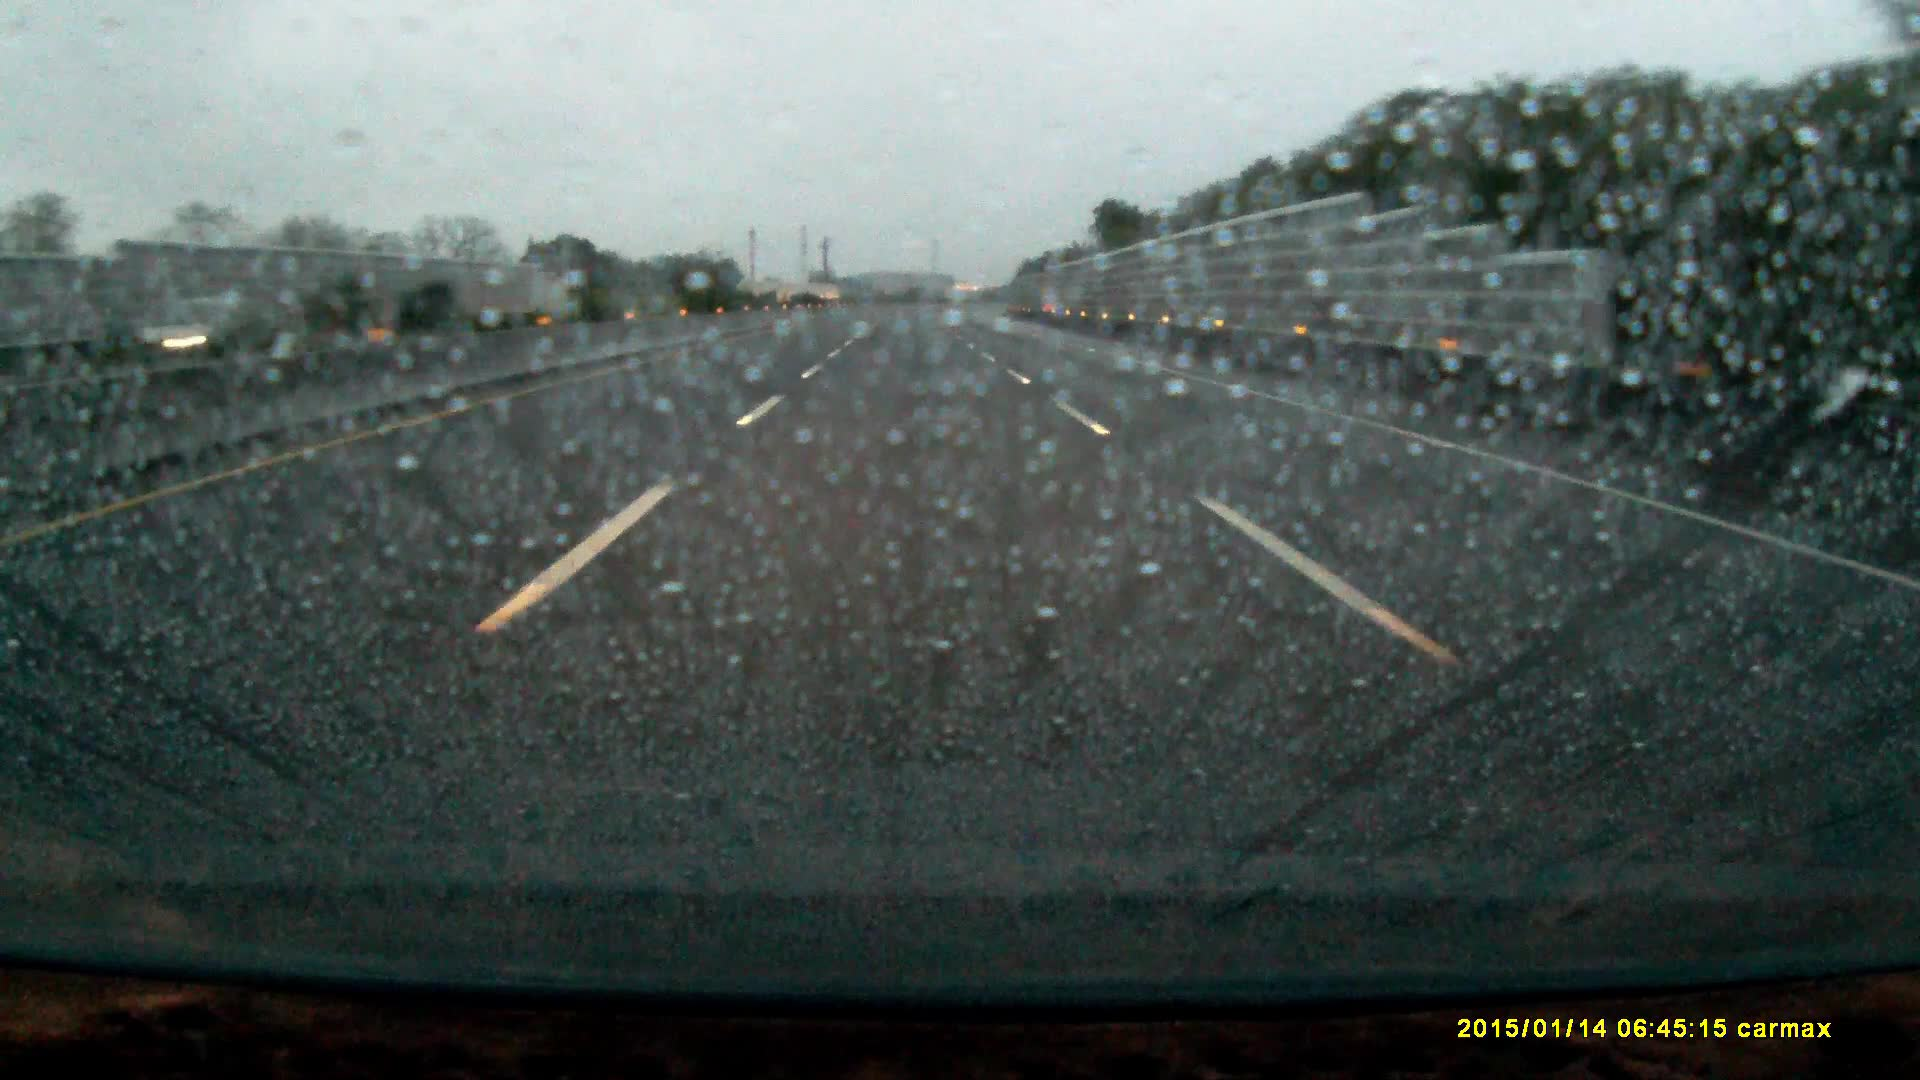vehicle: (141, 295, 252, 353)
